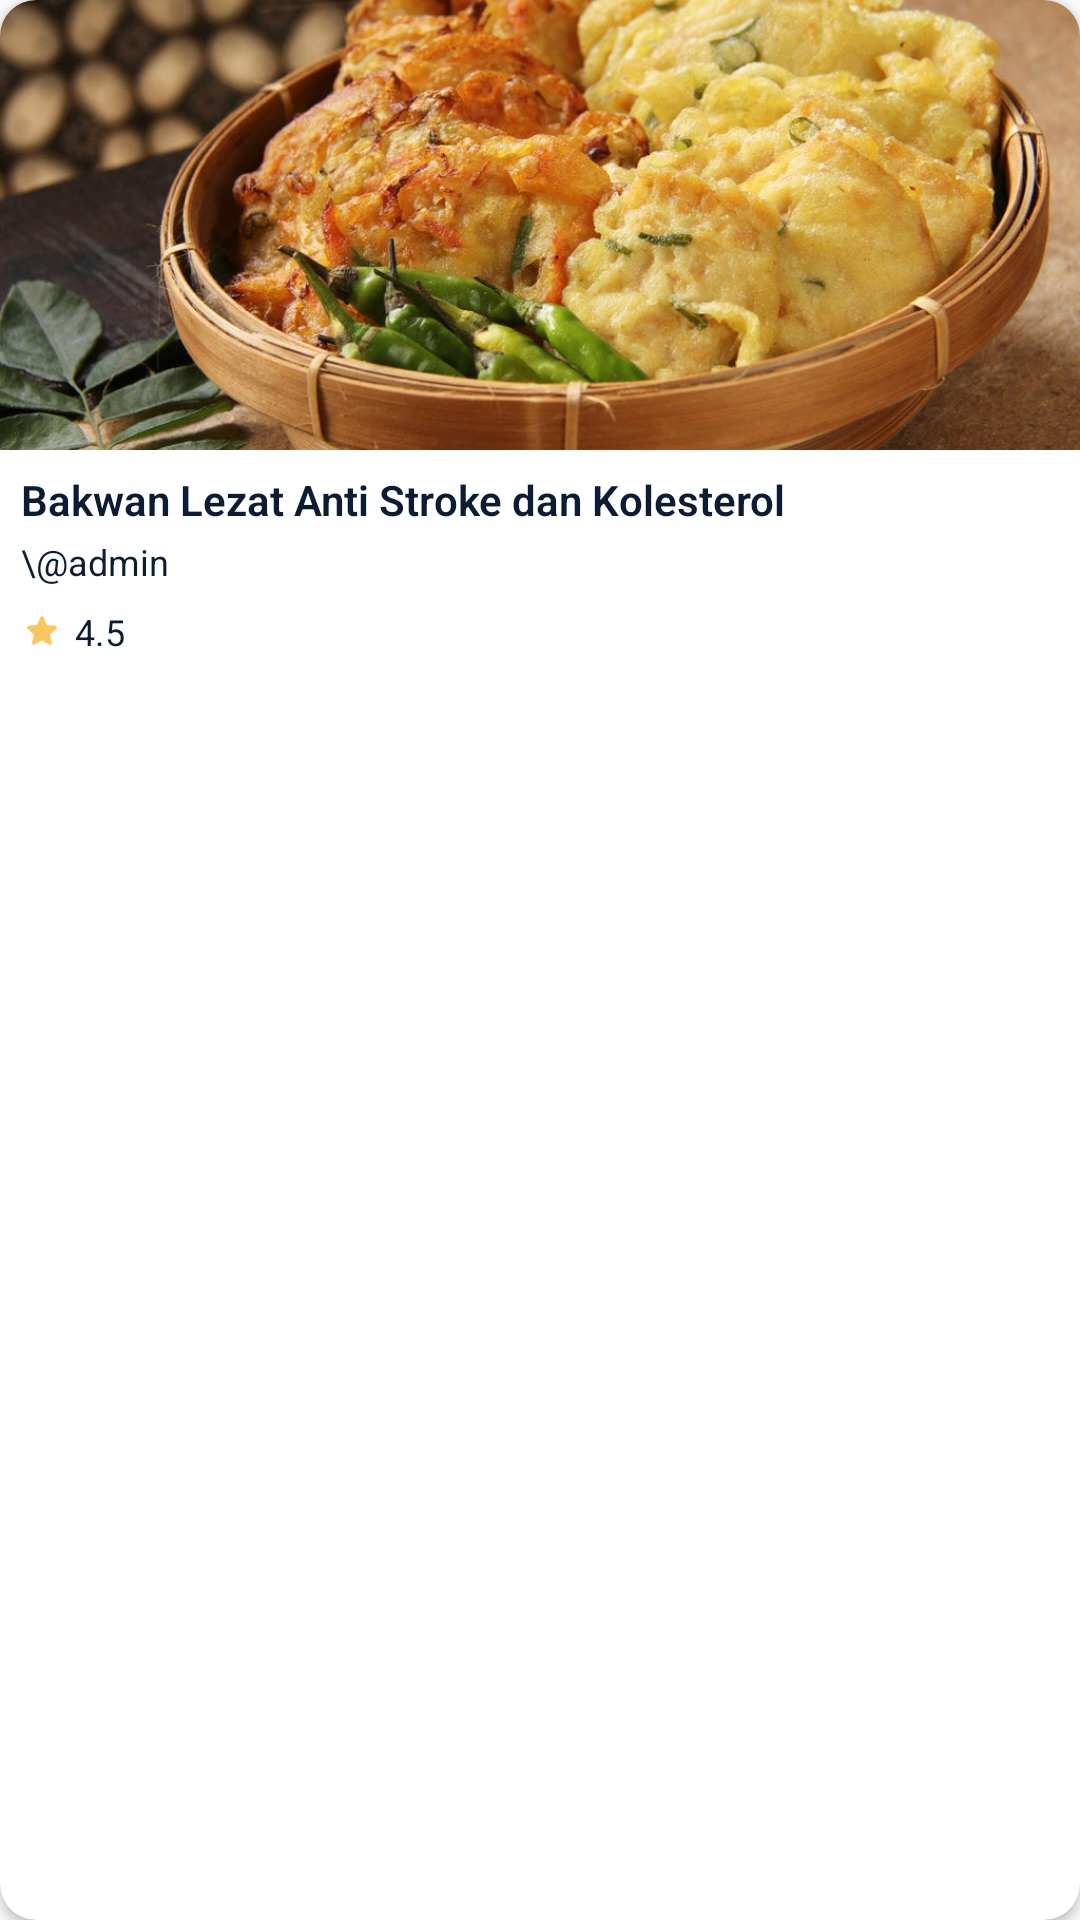

Screen size 1080px x 1920px. Icon name, then its center in pixels as point (x, y):
star: point (42, 630)
